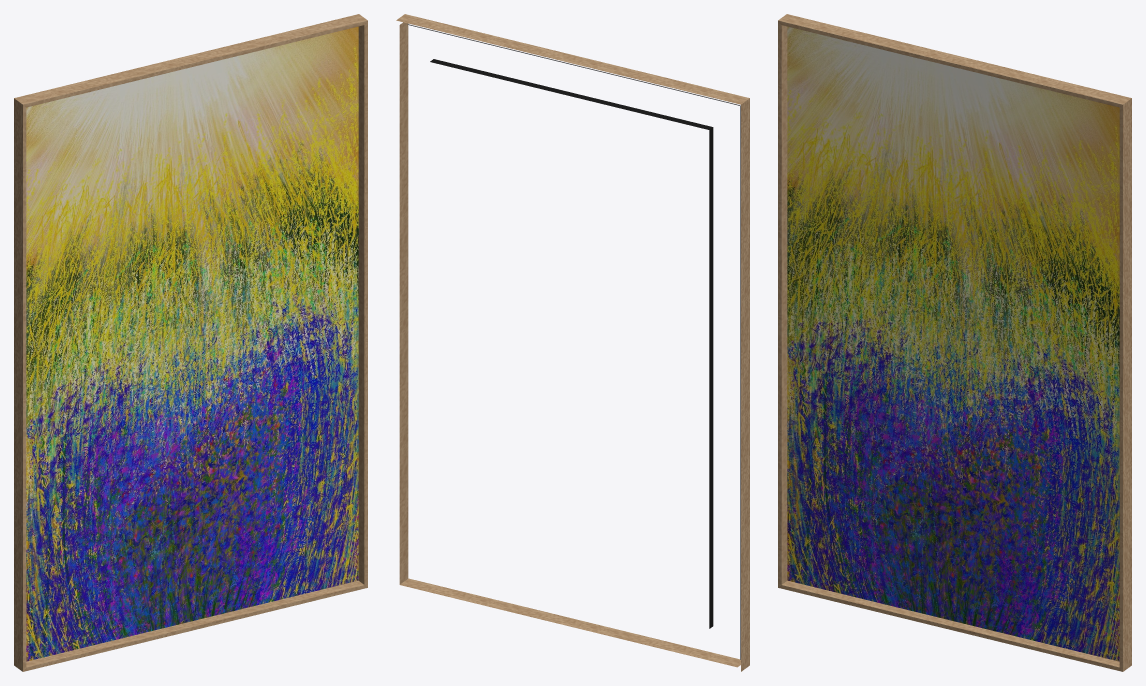
The model's file is os033_grand_caisse-chene.glb.
The picture shows the model from 3 angles, left to right: view 1: azimuth 30°, elevation 25°; view 2: azimuth 150°, elevation 25°; view 3: azimuth 330°, elevation 25°; orthographic projection.
Parts seen in each view (by area): view 1: os033_grand_caisse-chene; view 2: os033_grand_caisse-chene; view 3: os033_grand_caisse-chene.
Part boxes in pixels (<box>): os033_grand_caisse-chene: <box>14,14,367,671</box>; os033_grand_caisse-chene: <box>396,14,749,671</box>; os033_grand_caisse-chene: <box>778,14,1131,671</box>.
Size of the model in its own units: 0.7817 by 1.23 by 0.035.
Materials: 4 (2 with a texture image).
